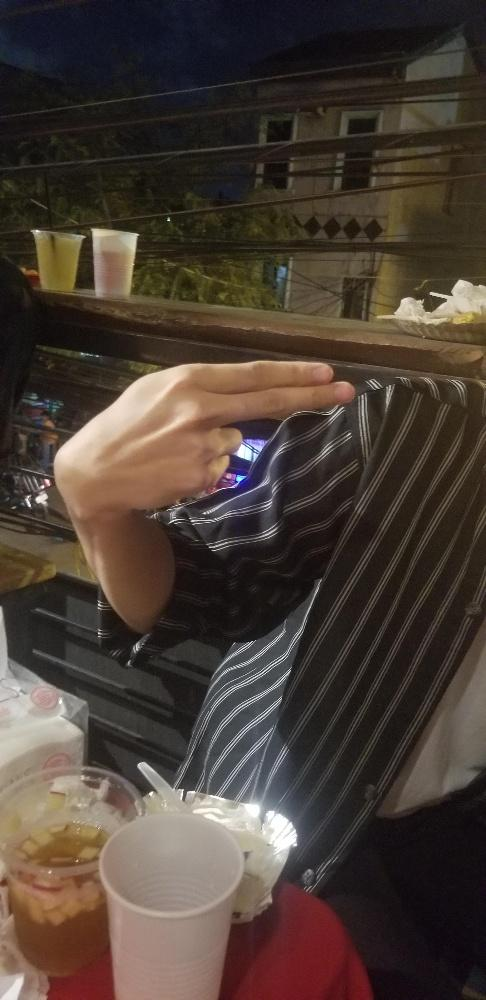h: (51, 354, 360, 513)
